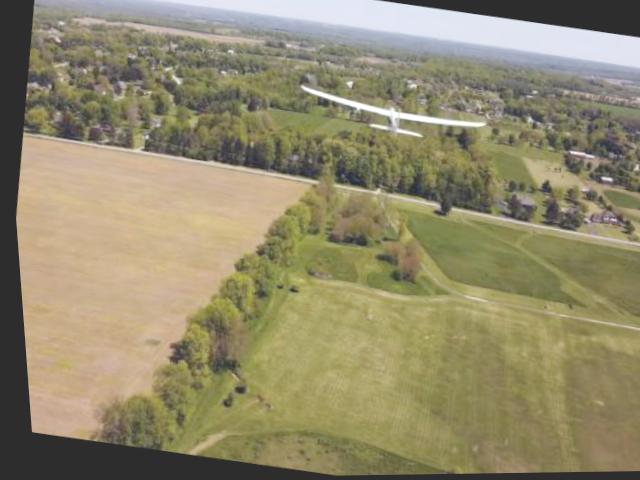uav: (288, 71, 495, 157)
